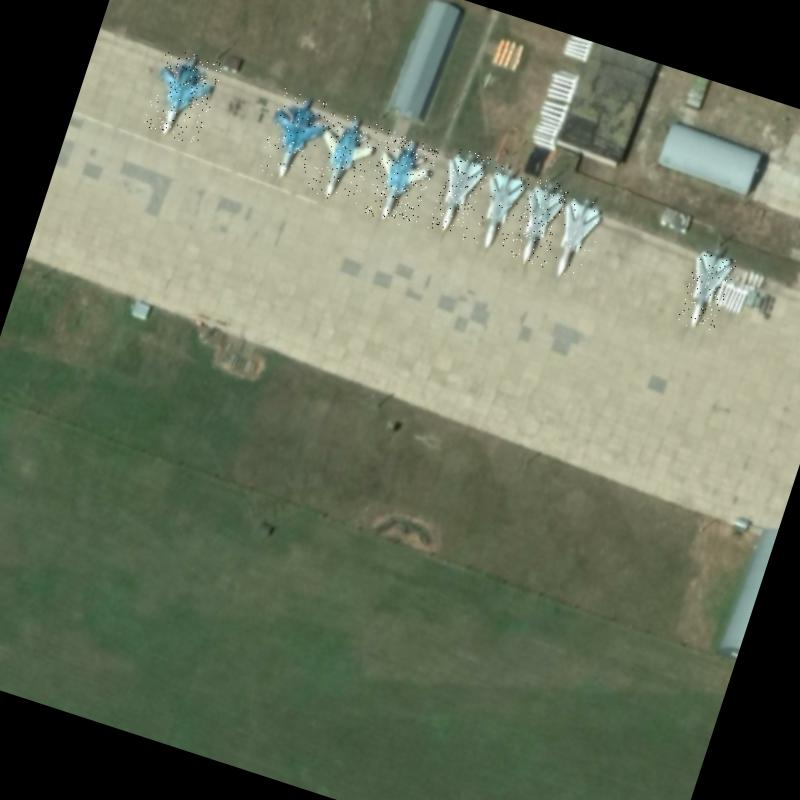A19: (141, 46, 224, 147), (361, 130, 441, 230), (305, 108, 385, 208), (257, 88, 333, 187)
A20: (468, 162, 534, 256), (507, 174, 571, 270), (427, 146, 492, 240), (544, 191, 608, 284), (676, 246, 739, 334)
